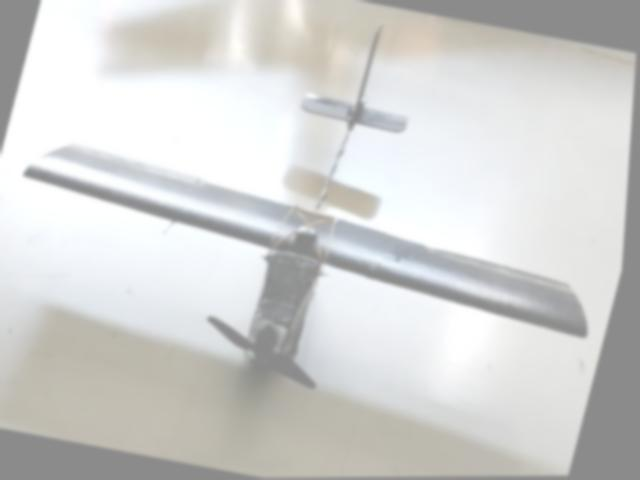uav: (0, 0, 640, 430)
